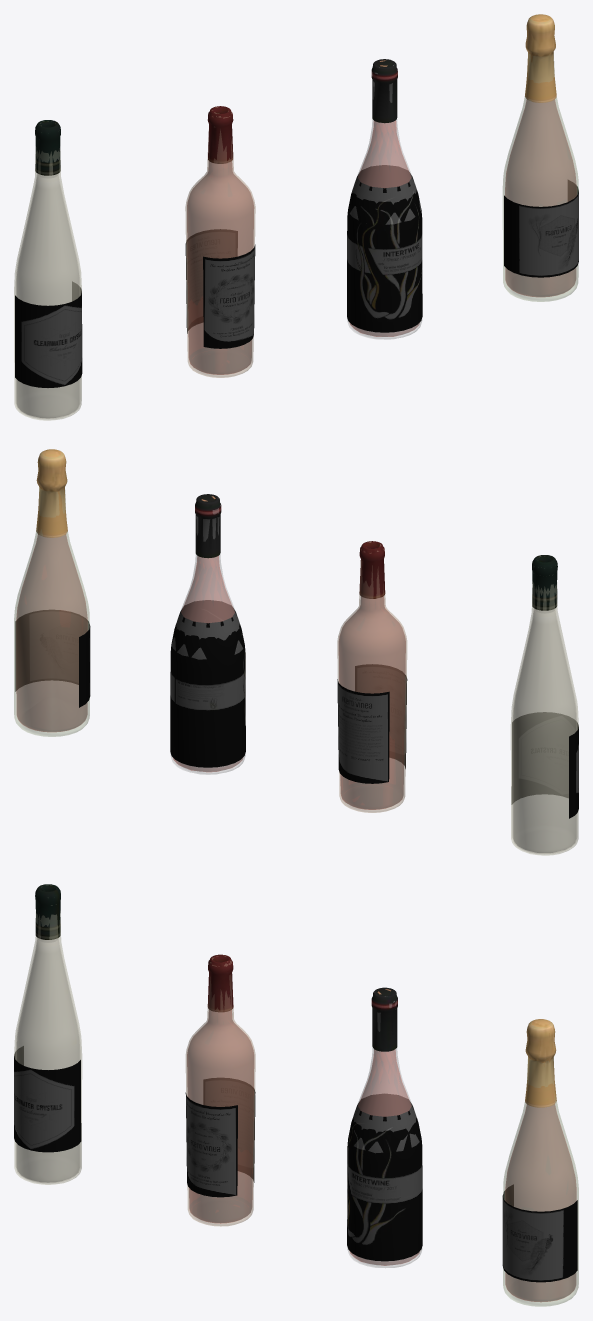
File: wine_bottles_01.glb
The picture shows the model from 3 angles, top to bottom: view 1: azimuth 30°, elevation 25°; view 2: azimuth 150°, elevation 25°; view 3: azimuth 330°, elevation 25°; orthographic projection.
Visible parts, largest first — view 1: wine_bottles_01_bordeaux, wine_bottles_01_alsace, wine_bottles_01_burgundy, wine_bottles_01_champagne; view 2: wine_bottles_01_bordeaux, wine_bottles_01_alsace, wine_bottles_01_burgundy, wine_bottles_01_champagne; view 3: wine_bottles_01_bordeaux, wine_bottles_01_alsace, wine_bottles_01_burgundy, wine_bottles_01_champagne.
Boxes of the visible parts, <box> form: wine_bottles_01_bordeaux: <box>14,14,578,420</box>; wine_bottles_01_alsace: <box>15,173,82,418</box>; wine_bottles_01_burgundy: <box>347,121,422,336</box>; wine_bottles_01_champagne: <box>504,180,578,277</box>; wine_bottles_01_bordeaux: <box>14,449,578,855</box>; wine_bottles_01_alsace: <box>511,609,578,853</box>; wine_bottles_01_burgundy: <box>170,556,245,771</box>; wine_bottles_01_champagne: <box>15,610,90,707</box>; wine_bottles_01_bordeaux: <box>14,884,578,1306</box>; wine_bottles_01_alsace: <box>14,938,81,1182</box>; wine_bottles_01_burgundy: <box>347,1050,422,1265</box>; wine_bottles_01_champagne: <box>502,1185,577,1282</box>.
Size of the model in its own units: 0.6763 by 0.3314 by 0.0805.
9 materials, 6 textured.
